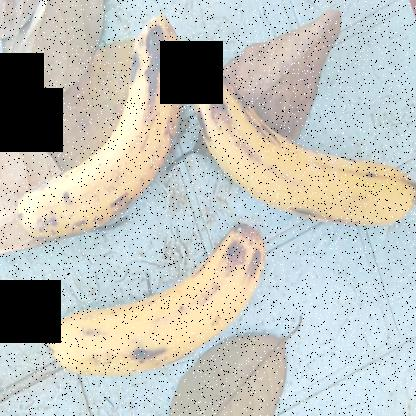overripe: (16, 8, 182, 251)
ripe: (41, 221, 271, 404), (198, 63, 414, 240)
